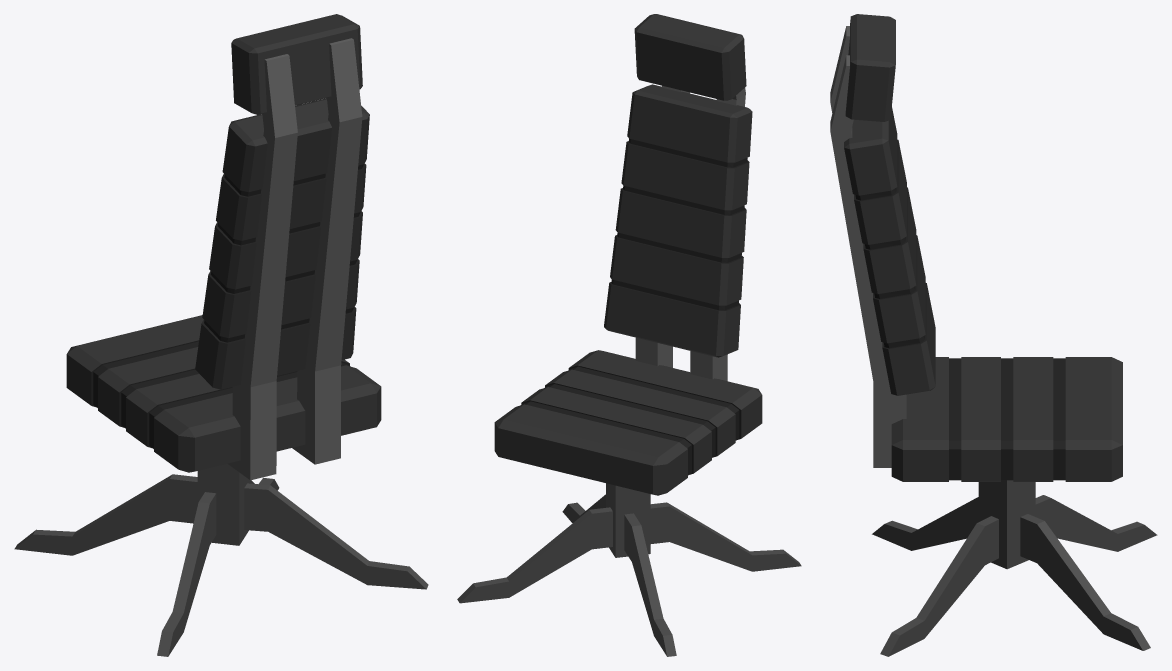
The model's file is chair_A.FBX.
3 renders of one model, left to right at view 1: azimuth 30°, elevation 25°; view 2: azimuth 150°, elevation 25°; view 3: azimuth 270°, elevation 25°, orthographic. The views are drawn at different scales.
Visible parts, largest first — view 1: chair_A; view 2: chair_A; view 3: chair_A.
Part boxes in pixels (x1,y1,x2,y2): chair_A: [14, 14, 428, 656]; chair_A: [457, 14, 801, 656]; chair_A: [830, 14, 1157, 656].
Bounding box in the file's own units: 34.76 × 71.48 × 38.13.
